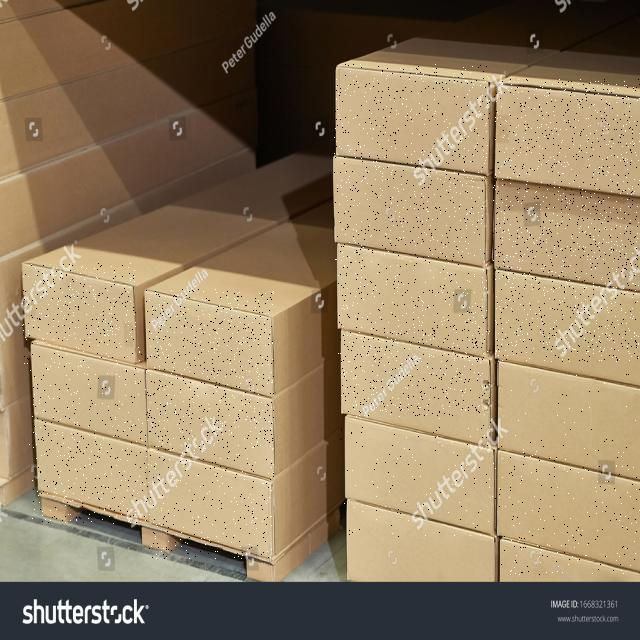BoxFace: (344, 416, 496, 537), (340, 327, 490, 447), (498, 449, 640, 575), (334, 64, 490, 178), (494, 79, 640, 197), (337, 244, 487, 358), (496, 268, 640, 386), (498, 362, 638, 482), (335, 154, 483, 266), (494, 181, 640, 293), (146, 289, 274, 401), (146, 370, 274, 480), (149, 450, 273, 559), (32, 418, 150, 524), (29, 343, 149, 446), (22, 264, 136, 366)
